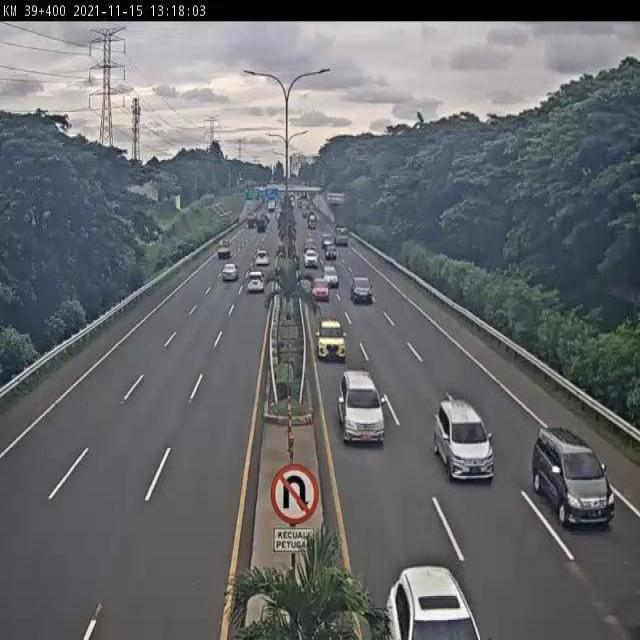car: (337, 370, 387, 446), (310, 275, 331, 301)
